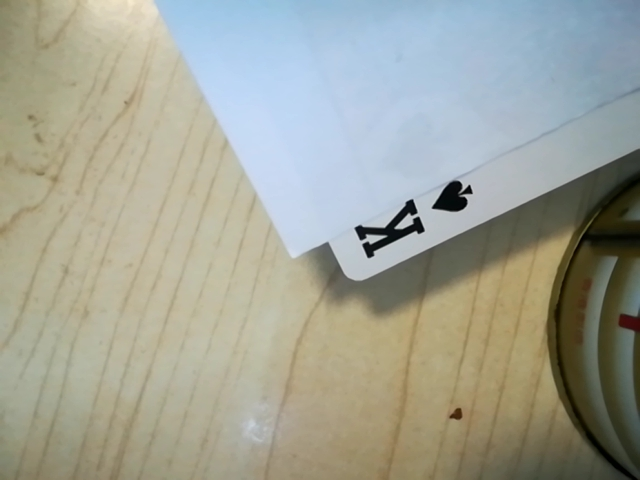ht k: (335, 168, 489, 275)
